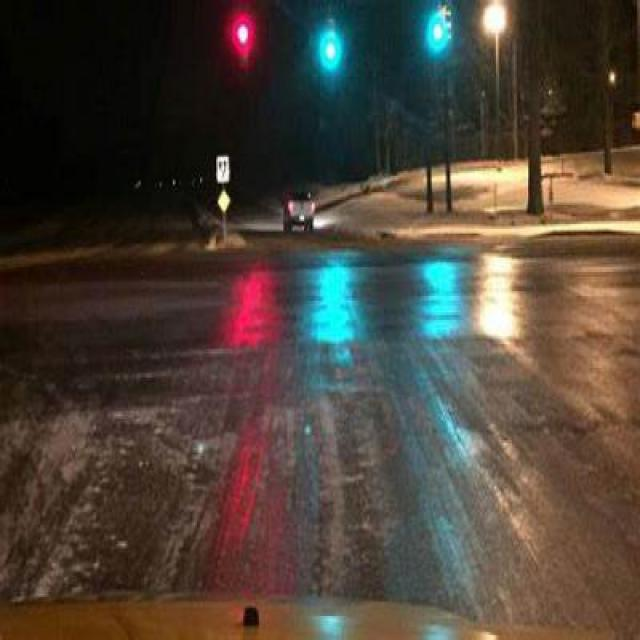ice-road: (0, 238, 640, 636)
